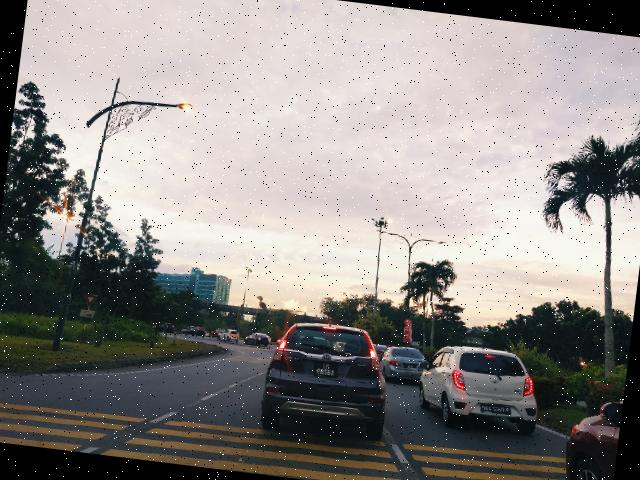License_Plate: (480, 404, 513, 419), (313, 362, 339, 381), (403, 364, 418, 371)
car: (261, 316, 395, 444), (414, 339, 547, 436), (382, 342, 433, 387)
